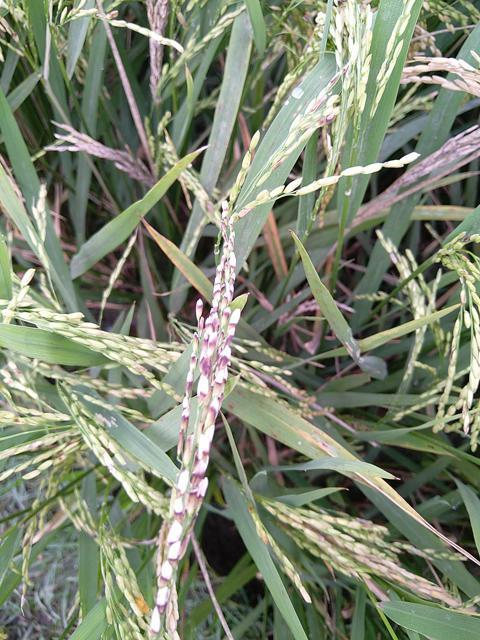Panicle Blight: (148, 197, 252, 639), (355, 555, 449, 604), (305, 71, 342, 115), (302, 521, 340, 547), (363, 572, 390, 602), (107, 387, 153, 402), (254, 507, 269, 551), (460, 390, 473, 434), (269, 155, 286, 173), (318, 114, 336, 127), (21, 530, 29, 553)
